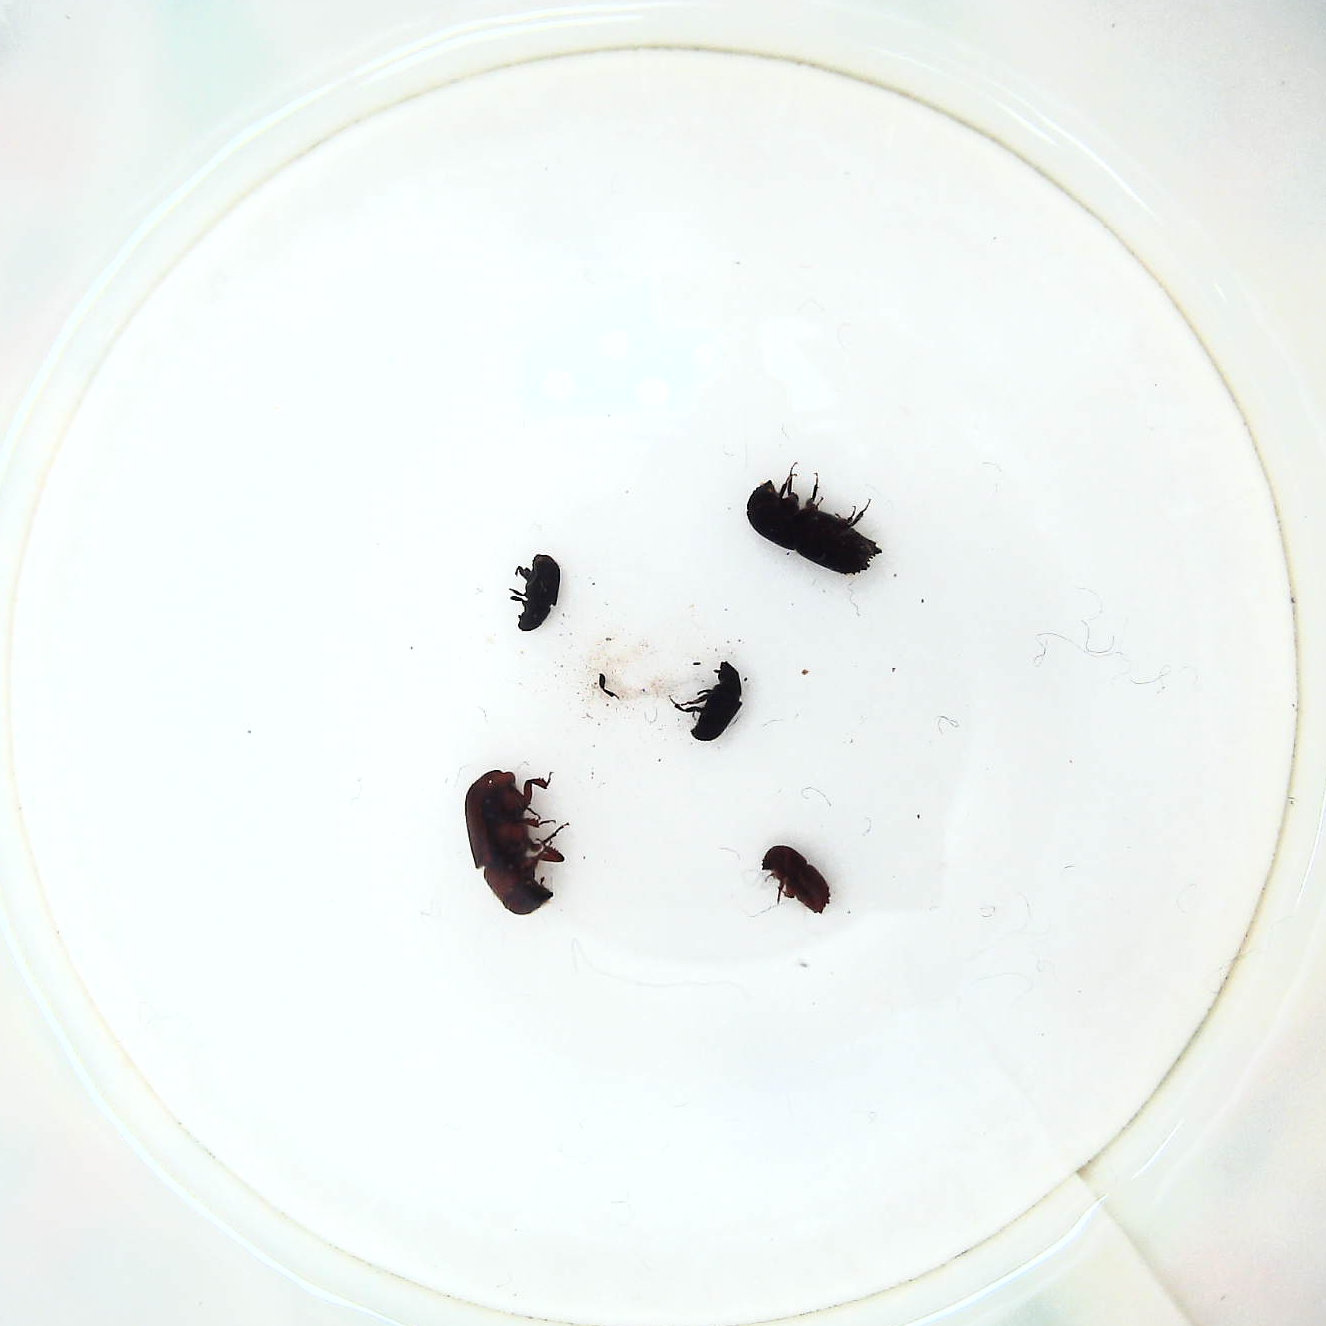Boerner: (750, 467, 882, 585)
Leconte: (458, 767, 565, 919)
armandi: (508, 548, 565, 634)
coleoptera: (665, 661, 746, 743)
linnaeus: (760, 843, 833, 919)
